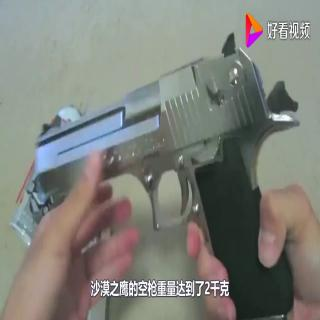gun: (27, 27, 306, 296)
